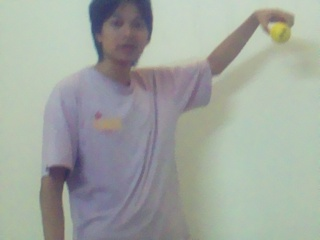ball: (270, 22, 290, 42)
